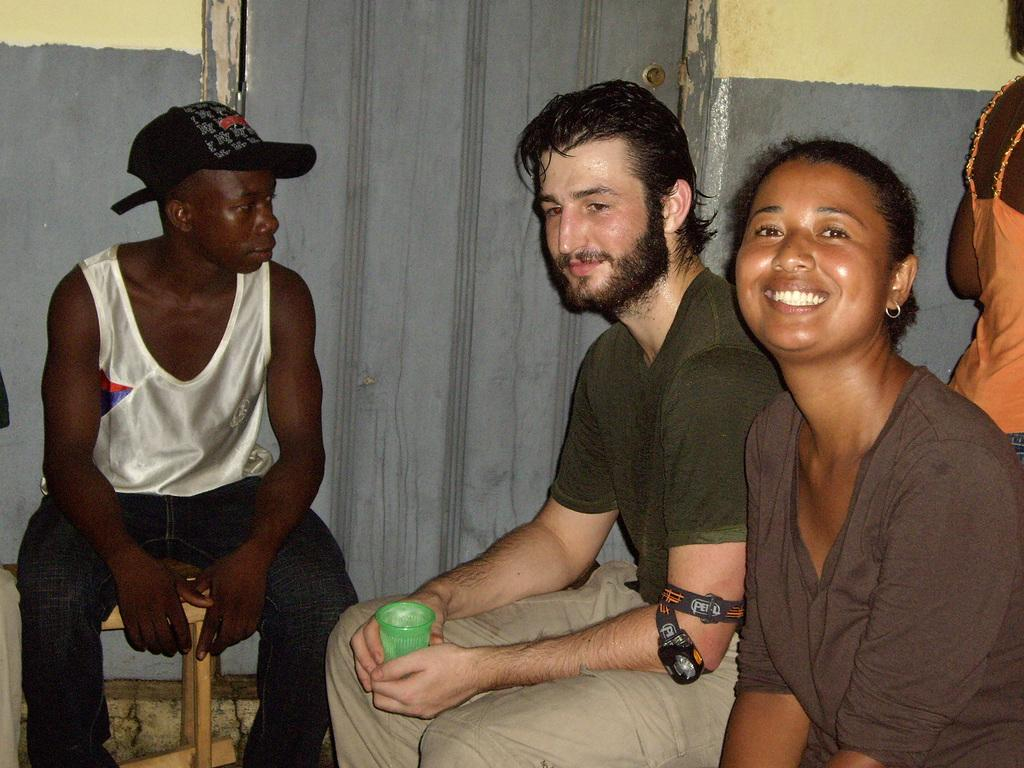Hat: (108, 97, 316, 219)
